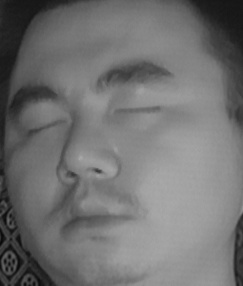blink: (111, 93, 165, 127), (21, 110, 68, 143)
mouth: (50, 189, 133, 247)
